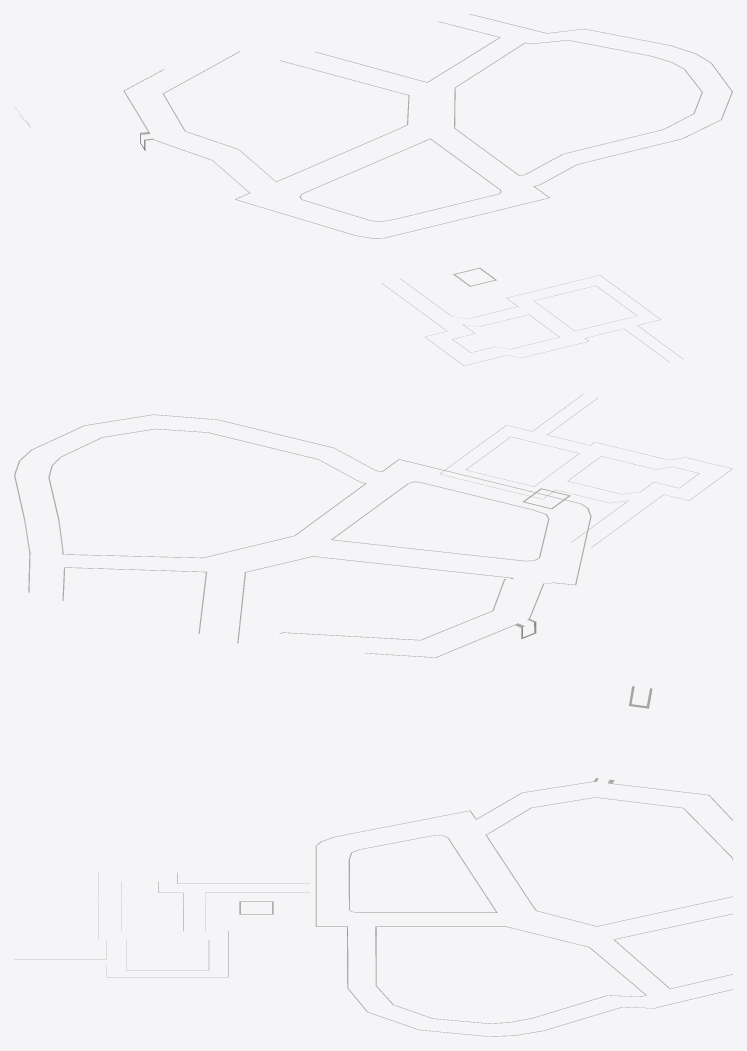
The model's file is kd_stage_1363c5_9_9_bounded.glb.
3 views of the same model, one above another, from view 1: azimuth 30°, elevation 25°; view 2: azimuth 150°, elevation 25°; view 3: azimuth 270°, elevation 25° (orthographic). The views are drawn at different scales.
Parts seen in each view (by area): view 1: kd_stage_1363c5_9_9_bounded; view 2: kd_stage_1363c5_9_9_bounded; view 3: kd_stage_1363c5_9_9_bounded.
Part boxes in pixels (left/top/right/bottom): kd_stage_1363c5_9_9_bounded: left=15, top=14, right=732, bottom=365; kd_stage_1363c5_9_9_bounded: left=14, top=394, right=732, bottom=657; kd_stage_1363c5_9_9_bounded: left=14, top=686, right=732, bottom=1036.
Size of the model in its own units: 136 by 22.13 by 137.
1 material, 1 textured.
